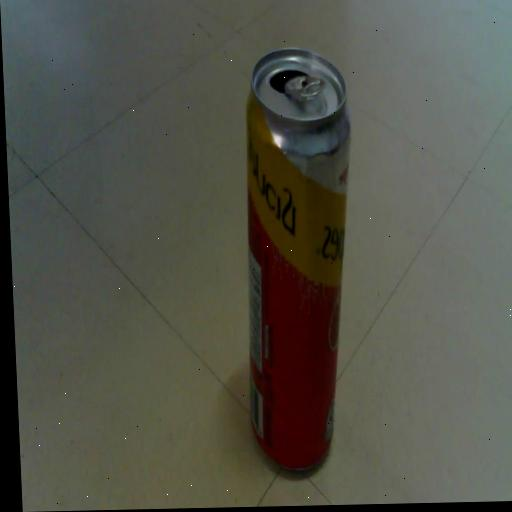canned: (223, 28, 387, 487)
